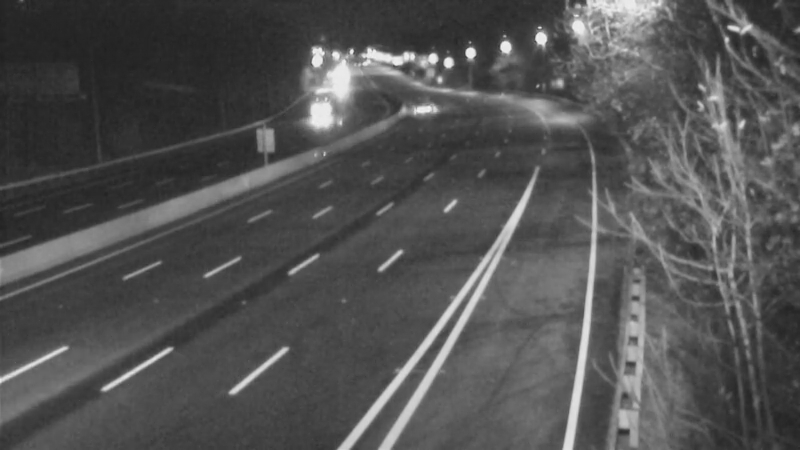vehicle: (396, 79, 446, 129), (293, 94, 343, 144)
